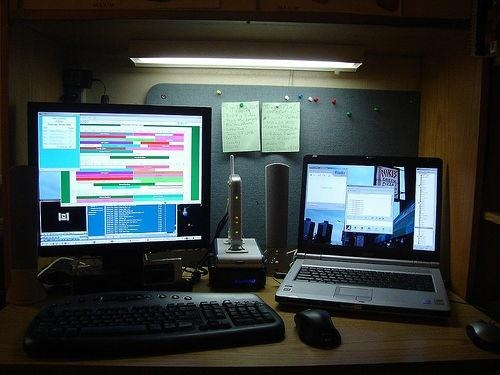tvmonitor: (28, 101, 214, 296)
